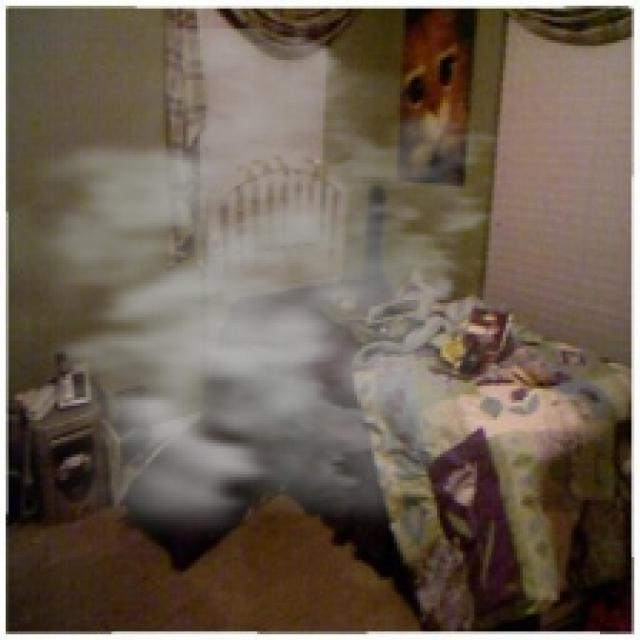Smoke: (9, 28, 552, 566)
